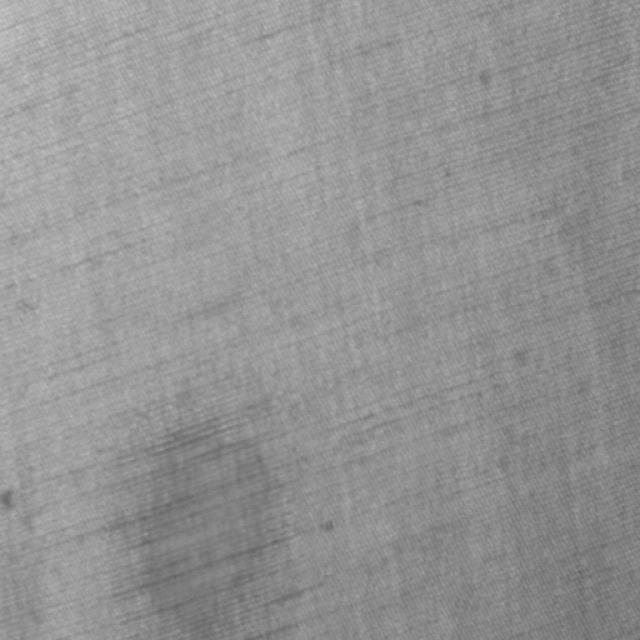oil spot: (134, 412, 277, 632)
